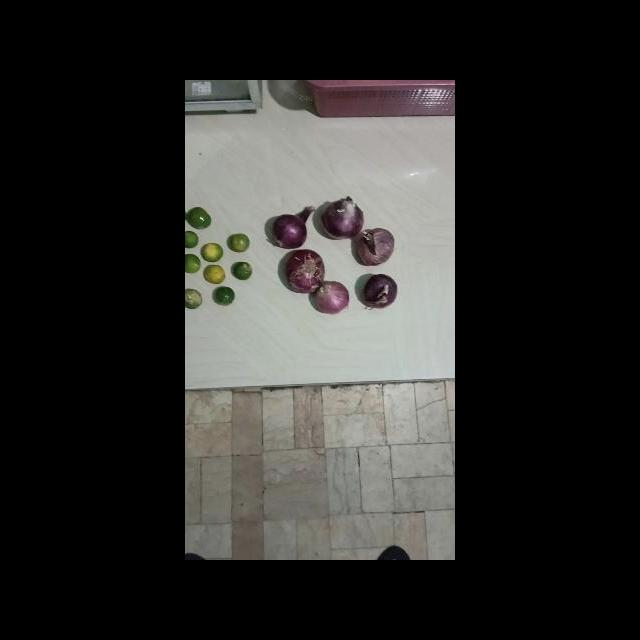onion: (320, 196, 365, 241), (271, 206, 316, 250), (284, 250, 324, 294), (359, 227, 396, 268), (363, 273, 399, 311), (313, 282, 349, 316)
